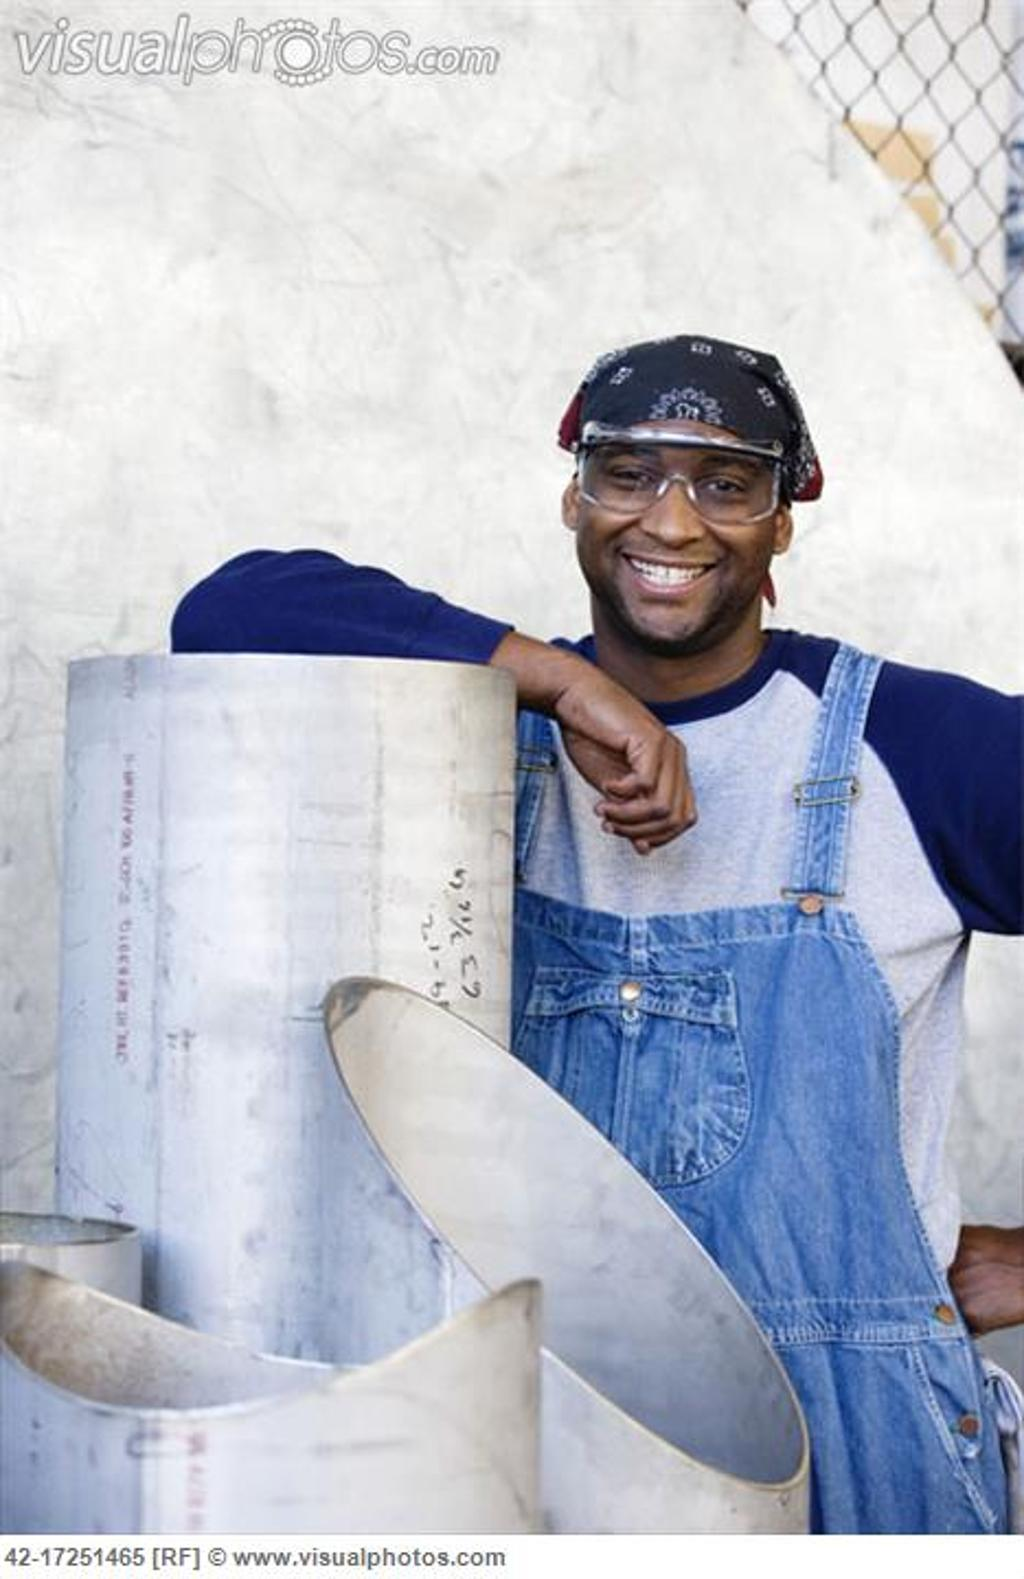face: (580, 376, 765, 635)
